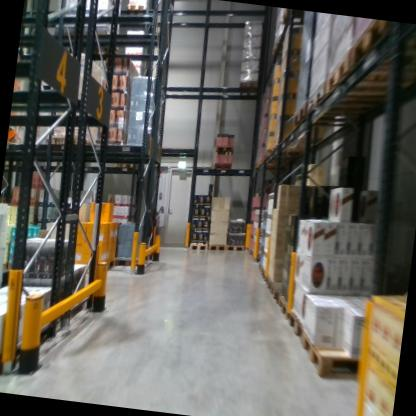pallet: (318, 35, 416, 116), (296, 324, 392, 388), (298, 77, 388, 129), (0, 308, 59, 382), (346, 22, 416, 78), (293, 101, 381, 139), (50, 128, 95, 147), (109, 251, 142, 271), (237, 79, 258, 106), (126, 0, 149, 22), (288, 311, 305, 340), (279, 295, 297, 321), (115, 155, 135, 178), (186, 236, 208, 255), (267, 280, 284, 302), (96, 256, 116, 273), (206, 239, 227, 251), (226, 241, 245, 254), (276, 294, 284, 307)
